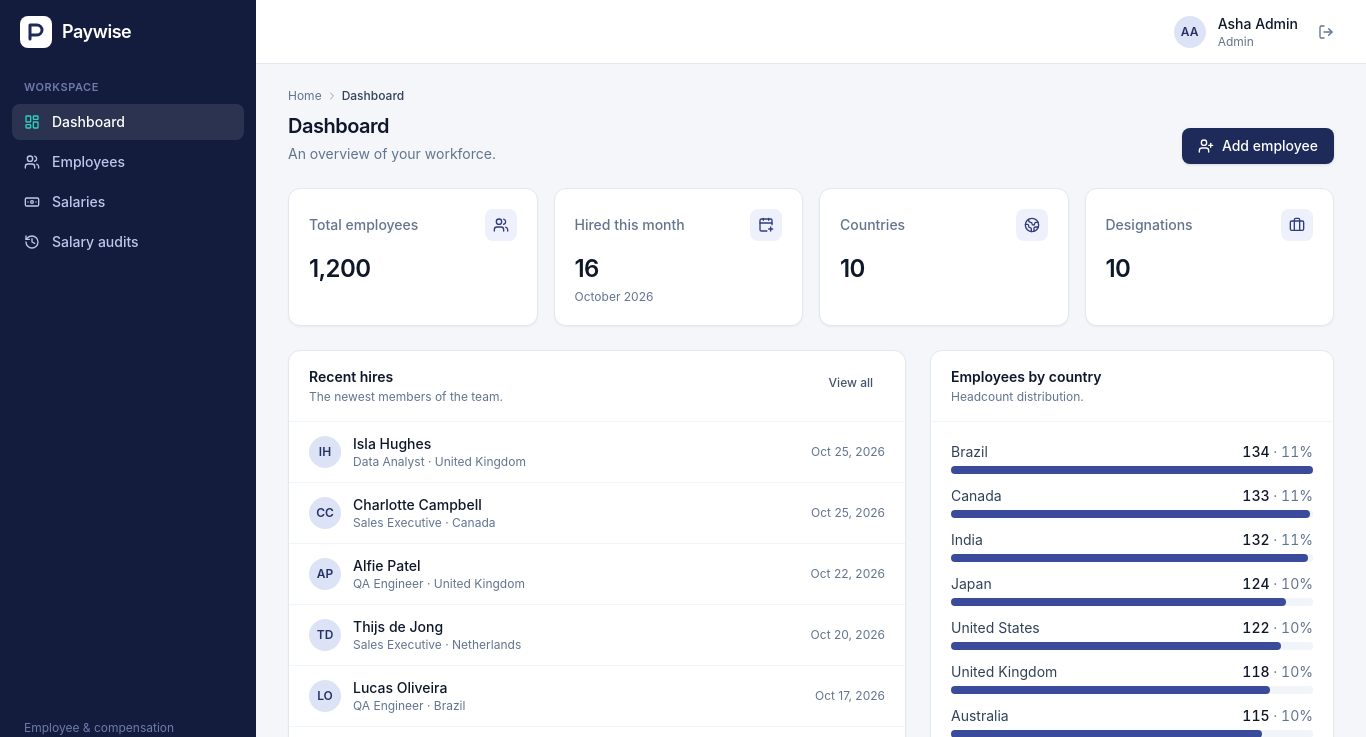
Test: navigation › moves between the main screens
Expected: the heading "Dashboard" is shown, [288,114,389,138]
Expected: the text "Total employees" is shown, [309,215,418,235]
Click the link "Employees".
click(74, 161)  # box [24,153,125,170]
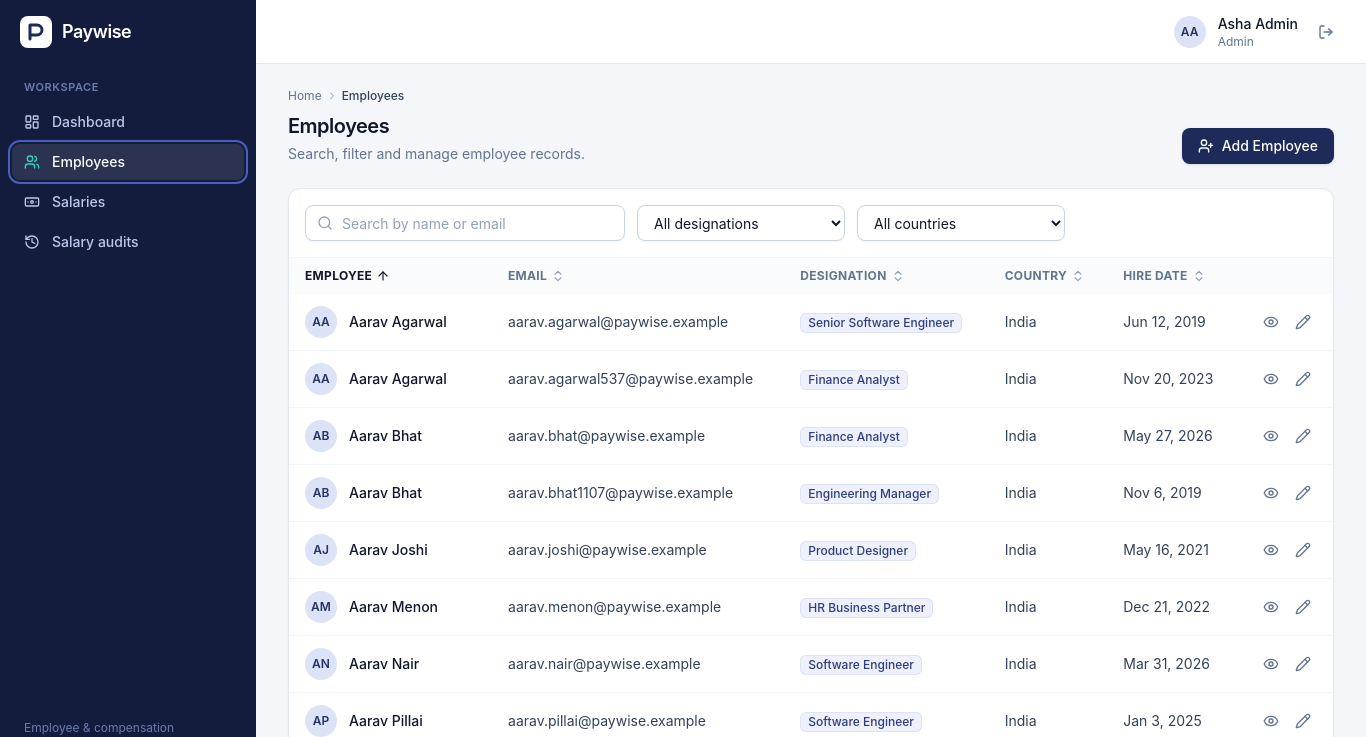
Expected: the heading "Employees" is shown, [288,114,389,138]
Click the link "Add Employee".
click(1258, 146)  # box [1182,128,1334,164]
(page scrolled)
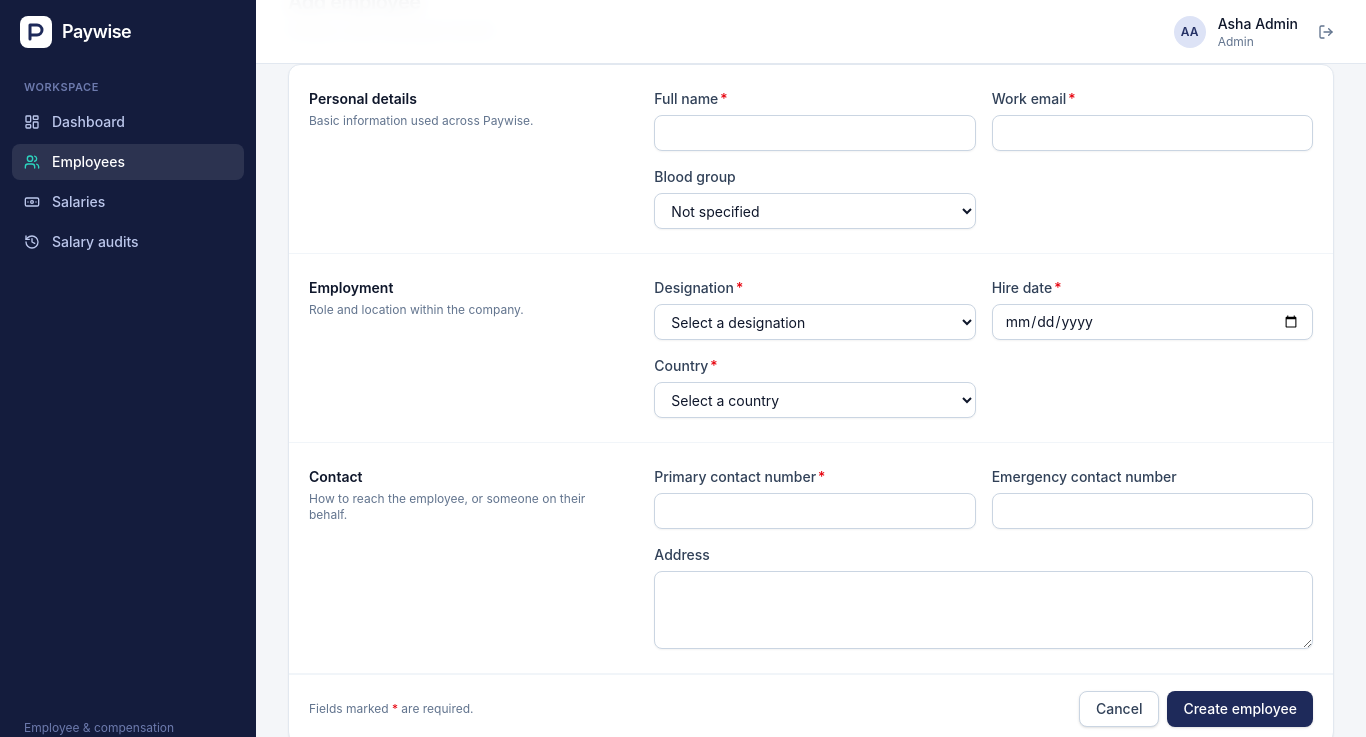
Click the button "Cancel".
click(1119, 709)  # box [1079,691,1159,727]
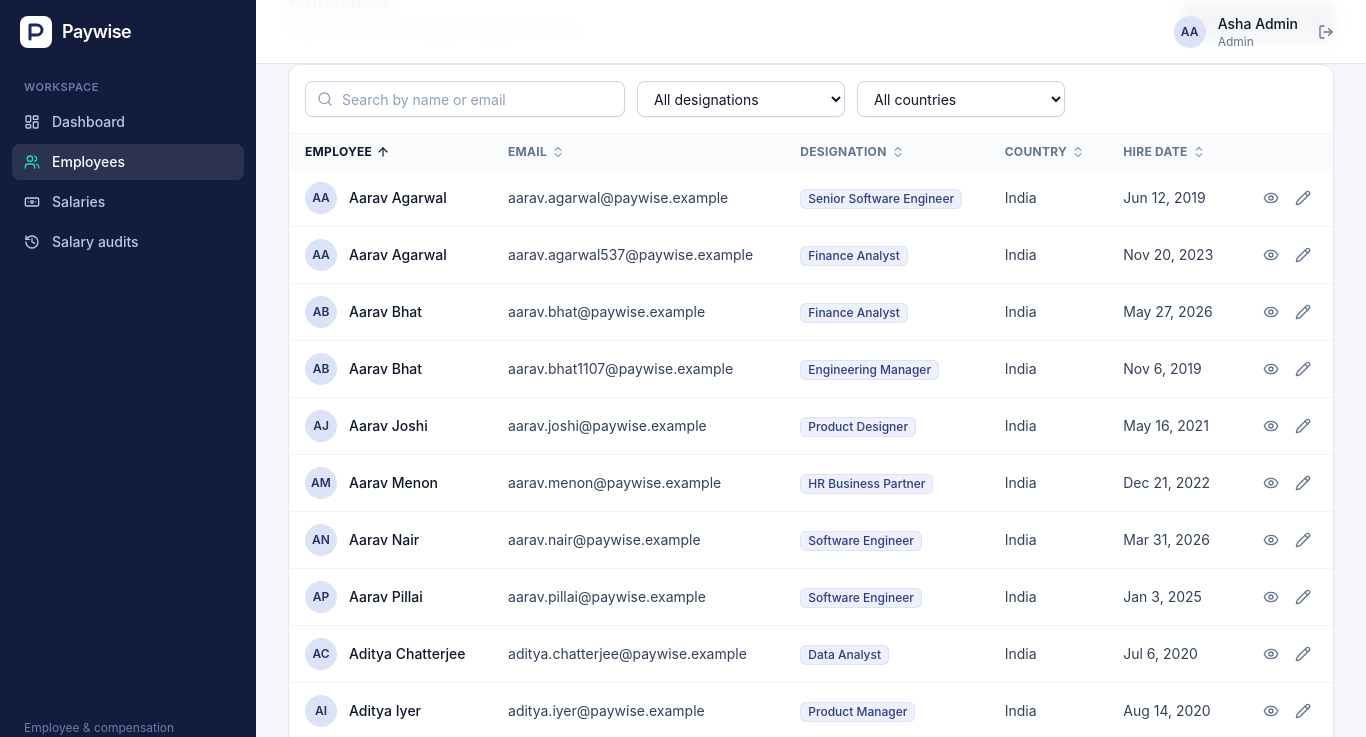
Click the link "Salaries".
click(65, 201)  # box [24,193,105,210]
(page scrolled)
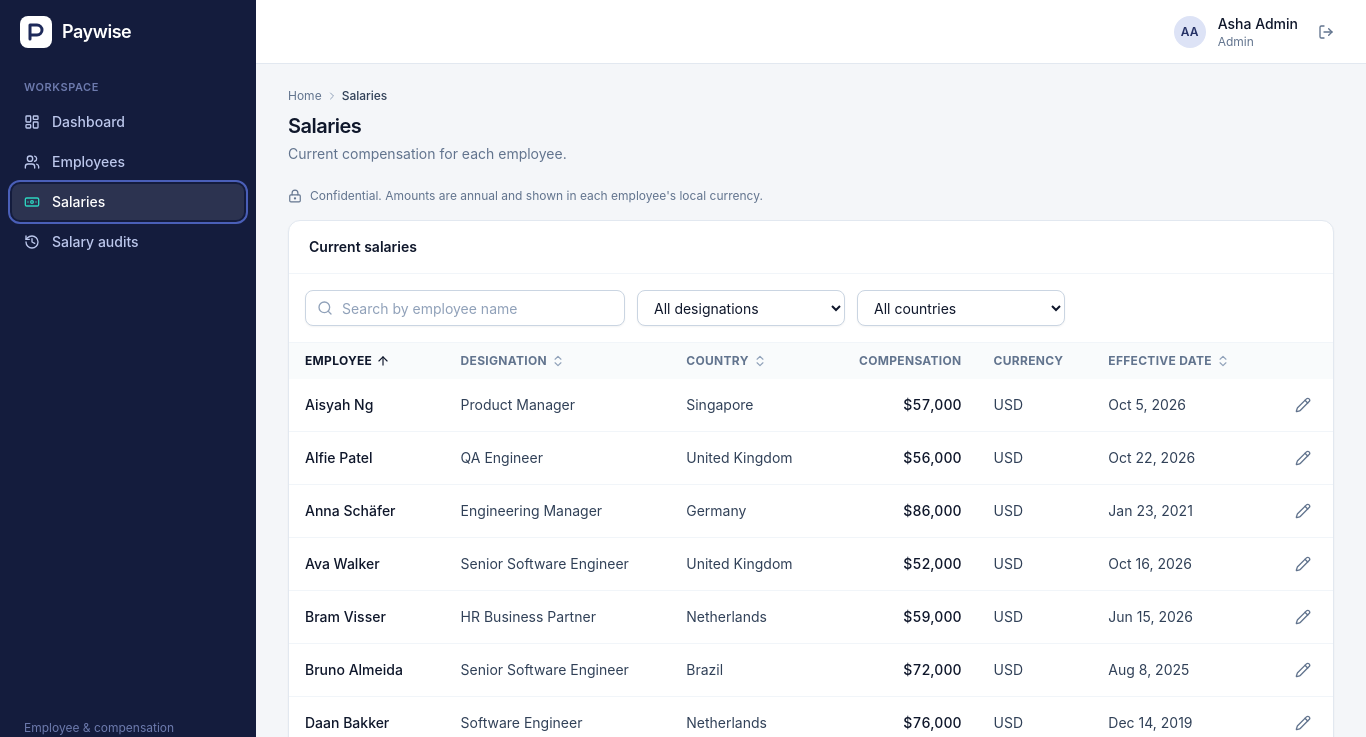
Expected: the heading "Salaries" is shown, [288,114,361,138]
Expected: the column heading "Compensation" is shown, [826,343,978,379]
